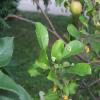Apple rust leaf: (62, 37, 86, 61), (35, 21, 51, 51), (34, 52, 55, 73)
